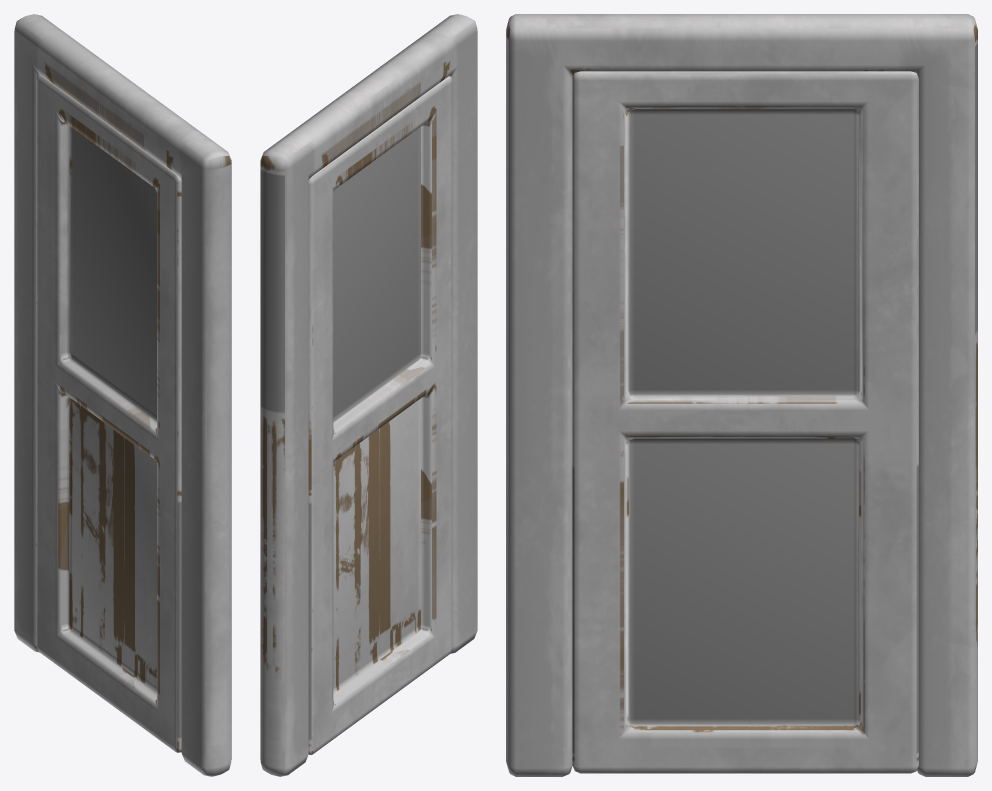
The model's file is Door.fbx.
The picture shows the model from 3 angles, left to right: view 1: azimuth 30°, elevation 25°; view 2: azimuth 150°, elevation 25°; view 3: azimuth 270°, elevation 25°; orthographic projection. The views are drawn at different scales.
Parts seen in each view (by area): view 1: Door.004, Door.003; view 2: Door.004, Door.003; view 3: Door.004, Door.003.
Boxes of the visible parts, x1,y1,x2,y2 form: Door.004: [36, 74, 181, 752]; Door.003: [14, 14, 231, 776]; Door.004: [308, 76, 452, 755]; Door.003: [260, 14, 477, 776]; Door.004: [572, 71, 918, 773]; Door.003: [506, 14, 977, 776].
Bounding box in the file's own units: 11.15 × 216 × 122.
1 material, 1 textured.
